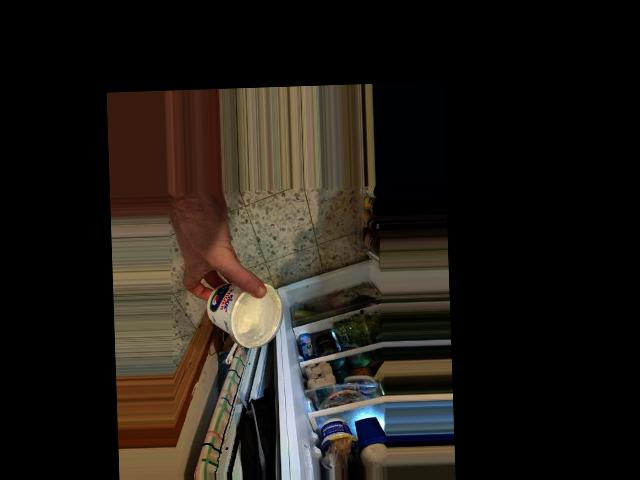cotage: (198, 271, 282, 351)
